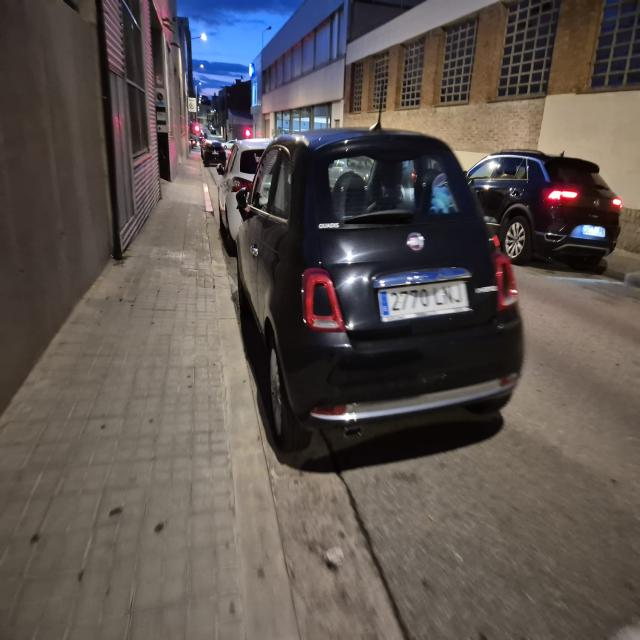license_plate-34Td: (376, 269, 469, 321)
